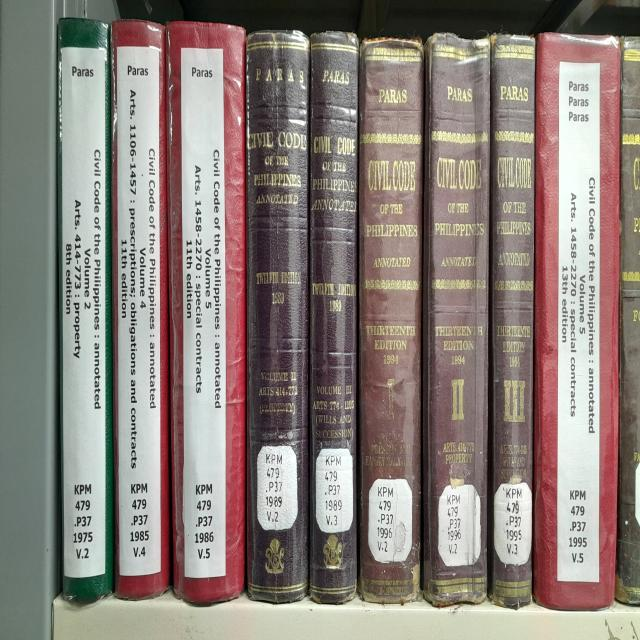book: (533, 33, 620, 610), (166, 21, 246, 603), (420, 28, 491, 607), (358, 38, 424, 603), (246, 31, 310, 604), (111, 20, 170, 598), (57, 18, 112, 601), (309, 31, 359, 604), (490, 33, 535, 609), (615, 37, 640, 605)
